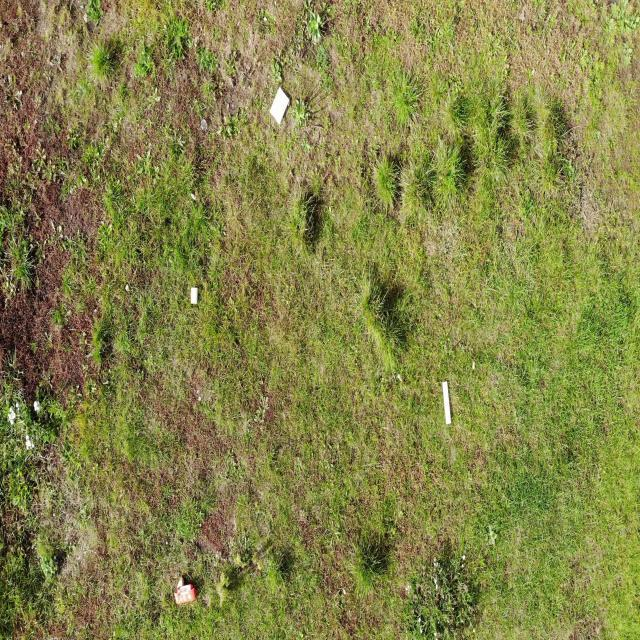rubbish: (269, 86, 290, 127), (172, 585, 196, 606), (442, 381, 451, 424), (190, 287, 198, 305), (201, 119, 206, 130)
